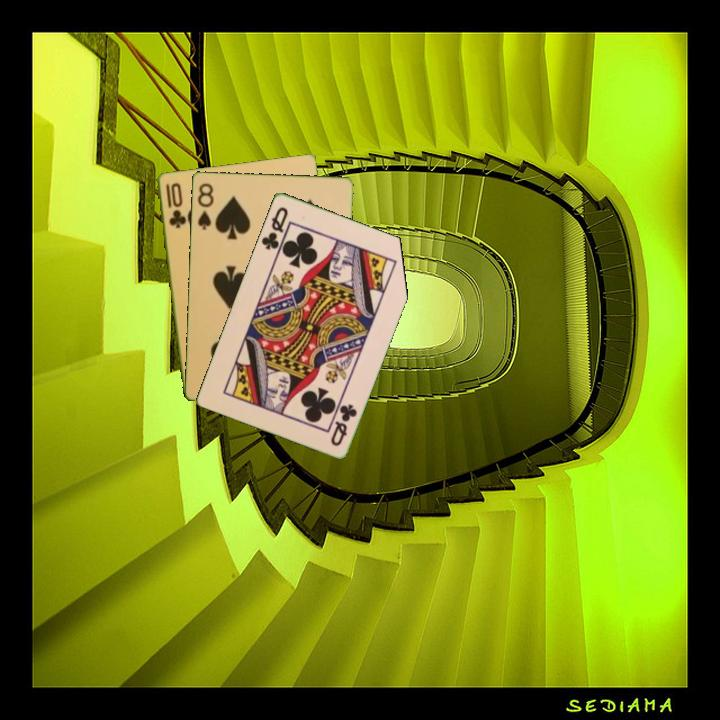10c: (162, 179, 187, 230)
8s: (194, 179, 216, 232)
Qc: (257, 203, 292, 257), (327, 400, 360, 449)
